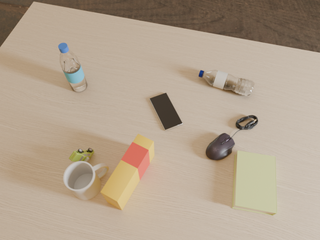book: (232, 151, 277, 215)
bottle: (199, 70, 255, 97), (58, 43, 87, 92)
box: (101, 134, 154, 210)
cup: (63, 161, 109, 200)
mouse: (206, 133, 235, 160)
phone: (150, 93, 183, 131)
toy_car: (69, 148, 94, 162)
